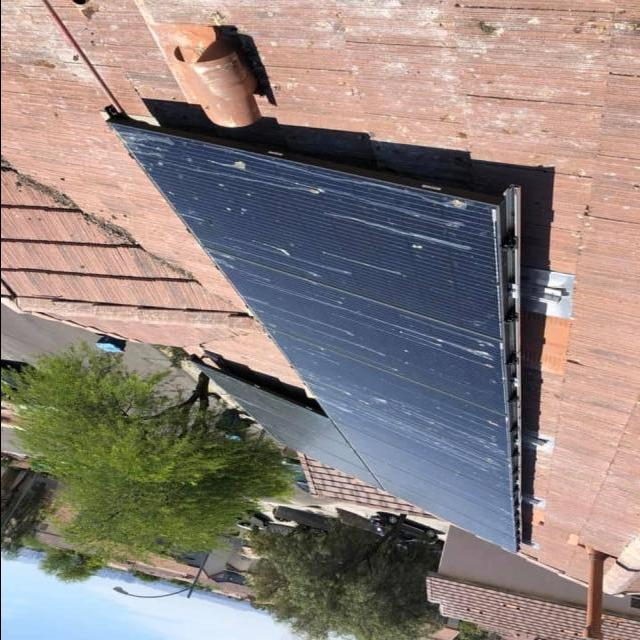soiled: (105, 114, 513, 544)
